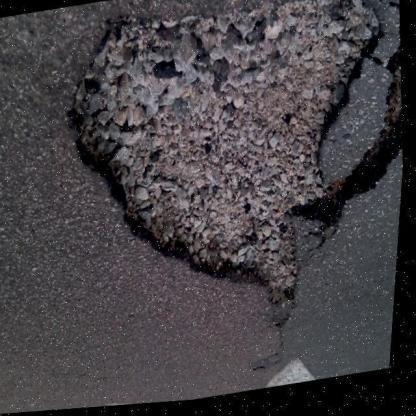pothole: (52, 0, 415, 335)
